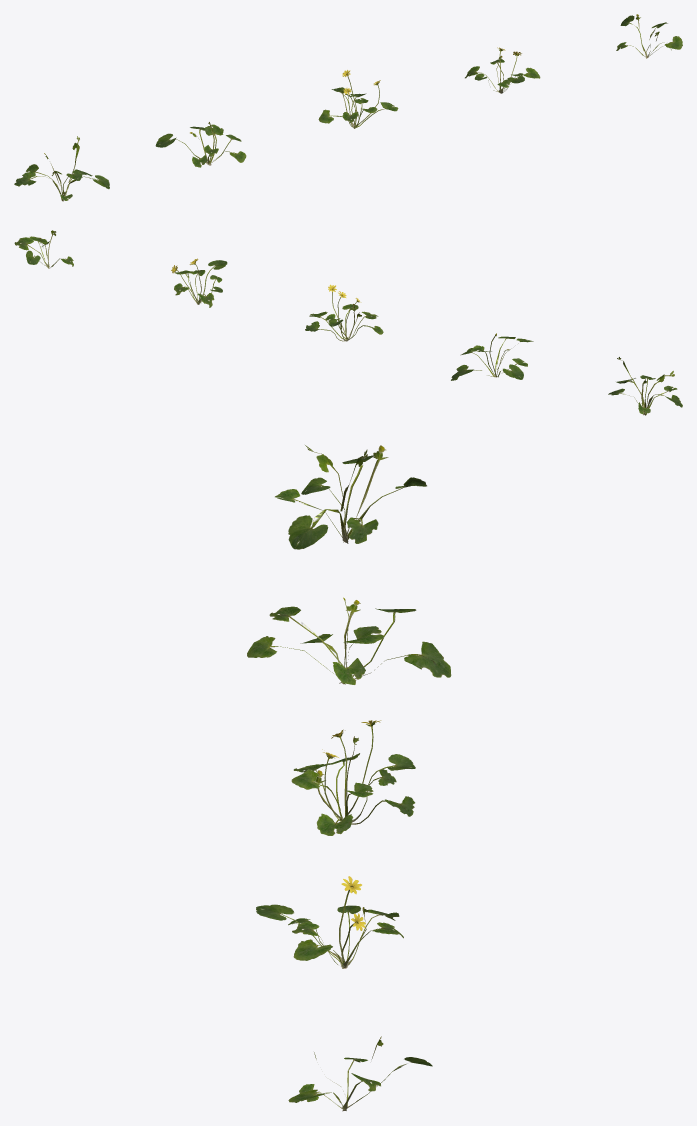
The model's file is celandine_01.glb.
3 views of the same model, one above another, from view 1: azimuth 30°, elevation 25°; view 2: azimuth 150°, elevation 25°; view 3: azimuth 270°, elevation 25° (orthographic). The views are drawn at different scales.
Visible parts, largest first — view 1: celandine_01_c_LOD0, celandine_01_b_LOD0, celandine_01_a_LOD0, celandine_01_d_LOD0, celandine_01_e_LOD0; view 2: celandine_01_c_LOD0, celandine_01_b_LOD0, celandine_01_d_LOD0, celandine_01_a_LOD0, celandine_01_e_LOD0; view 3: celandine_01_b_LOD0, celandine_01_a_LOD0, celandine_01_c_LOD0, celandine_01_d_LOD0, celandine_01_e_LOD0.
Part boxes in pixels (x1,y1,x2,y2): celandine_01_c_LOD0: (318,70,398,128); celandine_01_b_LOD0: (155,122,246,167); celandine_01_a_LOD0: (14,136,109,201); celandine_01_d_LOD0: (465,47,540,93); celandine_01_e_LOD0: (616,14,682,58); celandine_01_c_LOD0: (305,284,383,341); celandine_01_b_LOD0: (451,333,533,380); celandine_01_d_LOD0: (171,258,227,307); celandine_01_a_LOD0: (608,357,682,415); celandine_01_e_LOD0: (14,230,73,268); celandine_01_b_LOD0: (247,597,451,684); celandine_01_a_LOD0: (275,445,426,549); celandine_01_c_LOD0: (291,720,415,835); celandine_01_d_LOD0: (256,876,403,968); celandine_01_e_LOD0: (288,1036,432,1111).
Bounding box in the file's own units: 2.24 × 0.185 × 0.3051.
Materials: 1 (1 with a texture image).
